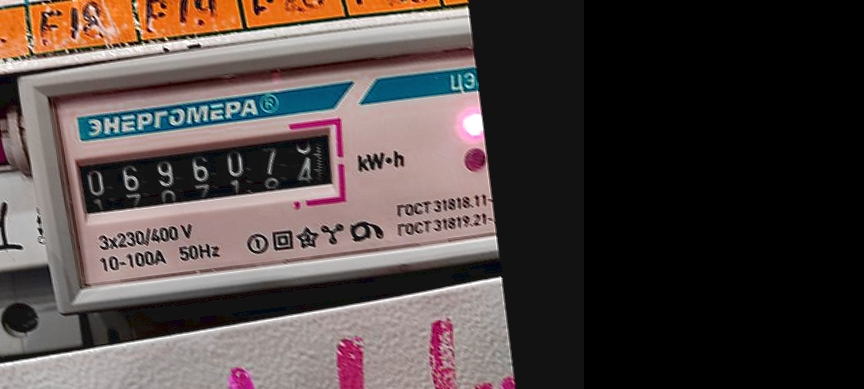0: (82, 165, 106, 197), (222, 147, 245, 178)
4: (291, 153, 313, 184)
6: (187, 151, 210, 184), (117, 161, 140, 192)
7: (257, 141, 279, 174)
9: (152, 156, 175, 187)
screen: (61, 109, 353, 235)
